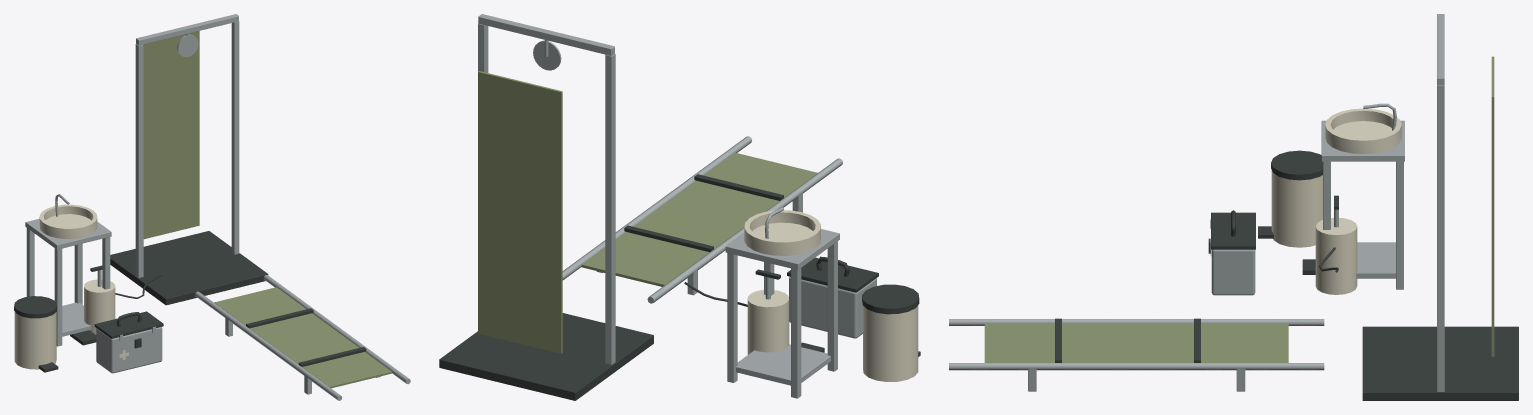
The model's file is field-medicine-and-recovery-field-wash-and-triage-8fec0103__3074.glb.
3 renders of one model, left to right at view 1: azimuth 30°, elevation 25°; view 2: azimuth 150°, elevation 25°; view 3: azimuth 270°, elevation 25°, orthographic. The views are drawn at different scales.
Parts seen in each view (by area): view 1: 001-decontamination-shower/2, 004-folding-stretcher/0, 001-decontamination-shower/0, 001-decontamination-shower/1, 000-handwash-pedal-stand/0, 004-folding-stretcher/1, 003-medicine-lockbox/0, 002-waste-foot-bin/0, 000-handwash-pedal-stand/1, 005-disinfectant-sprayer/0, 003-medicine-lockbox/lid/dark, 002-waste-foot-bin/1 (+1 smaller); view 2: 001-decontamination-shower/2, 004-folding-stretcher/0, 001-decontamination-shower/0, 000-handwash-pedal-stand/0, 001-decontamination-shower/1, 002-waste-foot-bin/0, 004-folding-stretcher/1, 000-handwash-pedal-stand/1, 003-medicine-lockbox/0, 005-disinfectant-sprayer/0, 002-waste-foot-bin/1, 003-medicine-lockbox/lid/dark (+1 smaller); view 3: 004-folding-stretcher/0, 001-decontamination-shower/0, 004-folding-stretcher/1, 000-handwash-pedal-stand/0, 002-waste-foot-bin/0, 001-decontamination-shower/1, 000-handwash-pedal-stand/1, 005-disinfectant-sprayer/0, 003-medicine-lockbox/0, 003-medicine-lockbox/lid/dark, 002-waste-foot-bin/1, 001-decontamination-shower/2 (+1 smaller).
Boxes of the visible parts, <box> form: 001-decontamination-shower/2: <box>143,31,199,239</box>; 004-folding-stretcher/0: <box>214,287,391,388</box>; 001-decontamination-shower/0: <box>110,231,268,305</box>; 001-decontamination-shower/1: <box>135,14,239,277</box>; 000-handwash-pedal-stand/0: <box>25,194,111,346</box>; 004-folding-stretcher/1: <box>195,275,410,400</box>; 003-medicine-lockbox/0: <box>96,326,162,373</box>; 002-waste-foot-bin/0: <box>14,311,56,369</box>; 000-handwash-pedal-stand/1: <box>39,204,97,238</box>; 005-disinfectant-sprayer/0: <box>84,279,115,334</box>; 003-medicine-lockbox/lid/dark: <box>94,311,163,338</box>; 002-waste-foot-bin/1: <box>14,296,57,318</box>; 001-decontamination-shower/2: <box>478,71,562,353</box>; 004-folding-stretcher/0: <box>581,152,817,286</box>; 001-decontamination-shower/0: <box>439,313,653,400</box>; 000-handwash-pedal-stand/0: <box>725,207,839,398</box>; 001-decontamination-shower/1: <box>478,14,615,364</box>; 002-waste-foot-bin/0: <box>863,305,918,381</box>; 004-folding-stretcher/1: <box>562,136,842,303</box>; 000-handwash-pedal-stand/1: <box>744,210,820,255</box>; 003-medicine-lockbox/0: <box>789,276,876,338</box>; 005-disinfectant-sprayer/0: <box>747,290,789,354</box>; 002-waste-foot-bin/1: <box>862,284,919,314</box>; 003-medicine-lockbox/lid/dark: <box>787,257,878,292</box>; 004-folding-stretcher/0: <box>984,323,1288,362</box>; 001-decontamination-shower/0: <box>1362,326,1518,400</box>; 004-folding-stretcher/1: <box>949,319,1324,391</box>; 000-handwash-pedal-stand/0: <box>1321,103,1404,289</box>; 002-waste-foot-bin/0: <box>1271,170,1322,247</box>; 001-decontamination-shower/1: <box>1437,14,1444,391</box>; 000-handwash-pedal-stand/1: <box>1325,108,1401,154</box>; 005-disinfectant-sprayer/0: <box>1315,217,1357,294</box>; 003-medicine-lockbox/0: <box>1210,219,1255,295</box>; 003-medicine-lockbox/lid/dark: <box>1211,212,1255,249</box>; 002-waste-foot-bin/1: <box>1271,150,1322,180</box>; 001-decontamination-shower/2: <box>1491,56,1494,356</box>.
Bounding box in the file's own units: 2.41 × 2.05 × 3.28.
